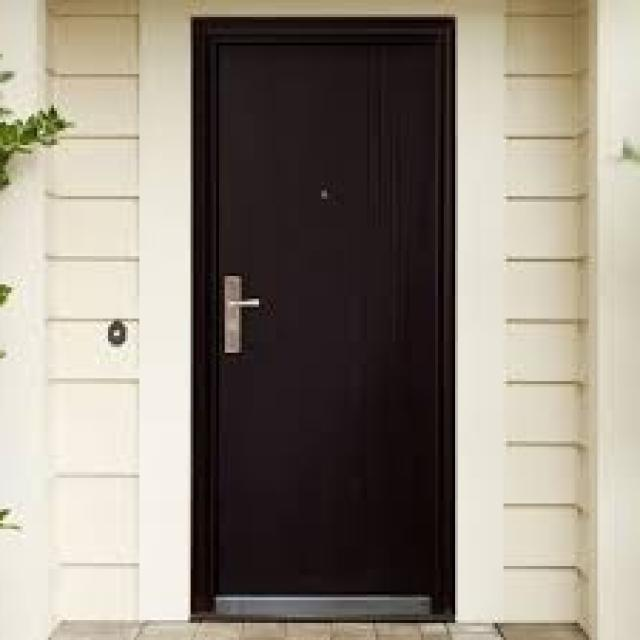door: (194, 17, 455, 617)
